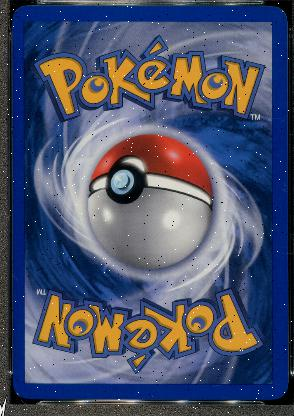Card: (12, 5, 288, 400)
Corner Wear: (13, 388, 22, 398), (276, 9, 285, 16), (14, 8, 18, 14)
Edge Wear: (11, 156, 12, 289)
Scratch: (278, 180, 286, 194), (268, 118, 285, 122), (11, 274, 18, 282)
